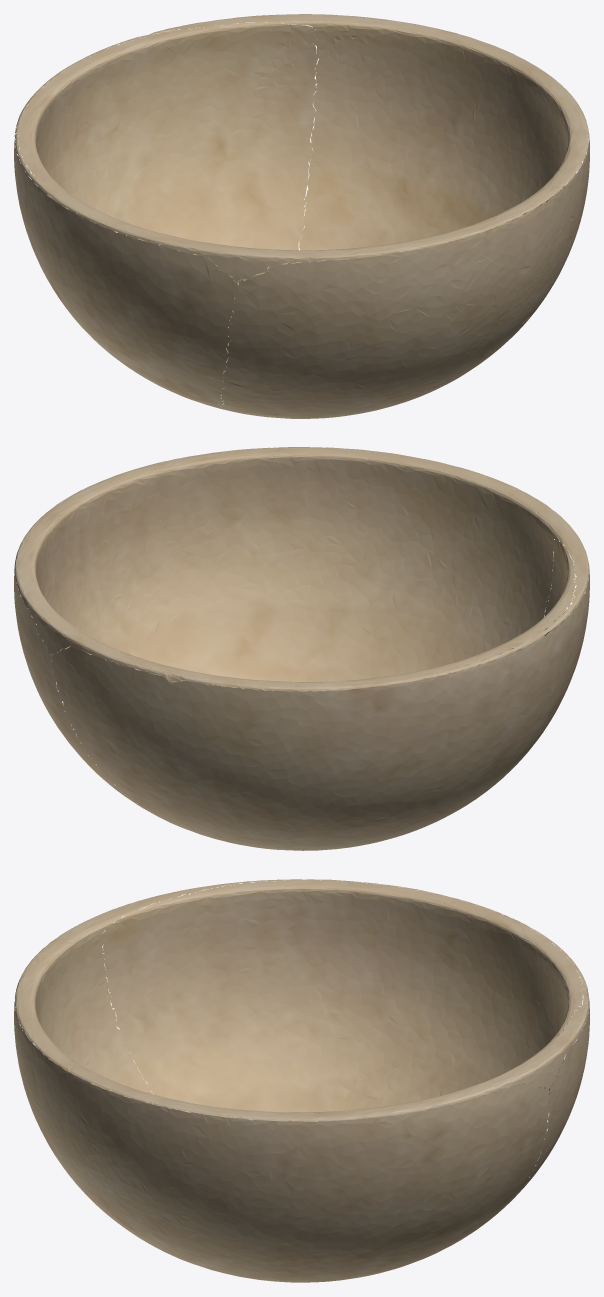
The picture shows the model from 3 angles, top to bottom: view 1: azimuth 30°, elevation 25°; view 2: azimuth 150°, elevation 25°; view 3: azimuth 270°, elevation 25°; orthographic projection.
Parts seen in each view (by area): view 1: geometry_0; view 2: geometry_0; view 3: geometry_0.
Part boxes in pixels (left/top/right/bottom): geometry_0: left=14, top=14, right=589, bottom=418; geometry_0: left=14, top=447, right=589, bottom=850; geometry_0: left=14, top=879, right=589, bottom=1282.
Size of the model in its own units: 0.28 by 0.13 by 0.2801.
